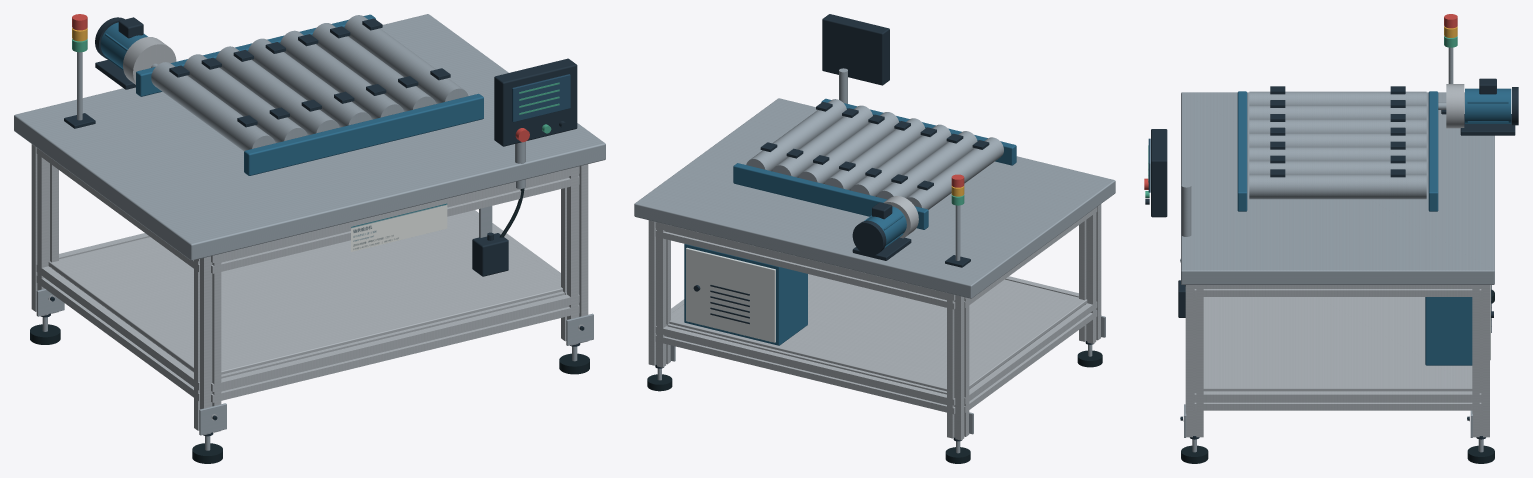
File: chain-conveyor-cell.glb
The picture shows the model from 3 angles, left to right: view 1: azimuth 30°, elevation 25°; view 2: azimuth 150°, elevation 25°; view 3: azimuth 270°, elevation 25°; orthographic projection. The views are drawn at different scales.
Parts seen in each view (by area): view 1: ClosedMachineBed_40, LowerShelf_41, SlottedExtrusion_34, TransportRail_72, SlottedExtrusion_35, SlottedExtrusion_11, SlottedExtrusion_36, SlottedExtrusion_27, ConsoleBack_52, TransportRoller_73, SlottedExtrusion_3, TransportRoller_74 (+14 smaller); view 2: ClosedMachineBed_40, LowerShelf_41, BackDoor_43, SlottedExtrusion_32, SlottedExtrusion_33, ConsoleBack_52, TransportRail_71, SlottedExtrusion_3, SlottedExtrusion_19, Cabinet_42, SlottedExtrusion_36, SlottedExtrusion_11 (+13 smaller); view 3: ClosedMachineBed_40, LowerShelf_41, SlottedExtrusion_38, TransportRoller_79, SlottedExtrusion_39, Cabinet_42, SlottedExtrusion_27, SlottedExtrusion_19, TransportRoller_74, TransportRoller_73, TransportRoller_76, TransportRoller_77 (+11 smaller).
Boxes of the visible parts, x1,y1,x2,y2 form: ClosedMachineBed_40: (14,14,605,260); LowerShelf_41: (48,211,562,374); SlottedExtrusion_34: (211,291,579,402); TransportRail_72: (244,93,483,175); SlottedExtrusion_35: (211,166,579,273); SlottedExtrusion_11: (194,254,221,434); SlottedExtrusion_36: (36,264,199,401); SlottedExtrusion_27: (561,164,588,345); ConsoleBack_52: (494,58,577,146); TransportRoller_73: (151,62,275,151); SlottedExtrusion_3: (31,144,58,316); TransportRoller_74: (184,54,307,142); ClosedMachineBed_40: (634,98,1115,298); LowerShelf_41: (669,274,1087,391); BackDoor_43: (686,247,775,342); SlottedExtrusion_32: (655,323,955,414); SlottedExtrusion_33: (655,222,955,309); ConsoleBack_52: (822,14,889,85); TransportRail_71: (733,163,928,229); SlottedExtrusion_3: (947,293,969,440); SlottedExtrusion_19: (648,220,670,367); Cabinet_42: (684,244,807,345); SlottedExtrusion_36: (964,301,1097,412); SlottedExtrusion_11: (1079,204,1101,343); ClosedMachineBed_40: (1181,92,1494,284); LowerShelf_41: (1203,297,1472,391); SlottedExtrusion_38: (1194,391,1481,410); TransportRoller_79: (1249,174,1426,199); SlottedExtrusion_39: (1194,285,1481,296); Cabinet_42: (1425,297,1472,365); SlottedExtrusion_27: (1185,285,1203,437); SlottedExtrusion_19: (1472,285,1489,437); TransportRoller_74: (1249,105,1426,119); TransportRoller_73: (1249,91,1426,105); TransportRoller_76: (1249,133,1426,146); TransportRoller_77: (1249,147,1426,160).
Size of the model in its own units: 1.55 by 1.18 by 1.37.
Materials: 11 (3 with a texture image).
